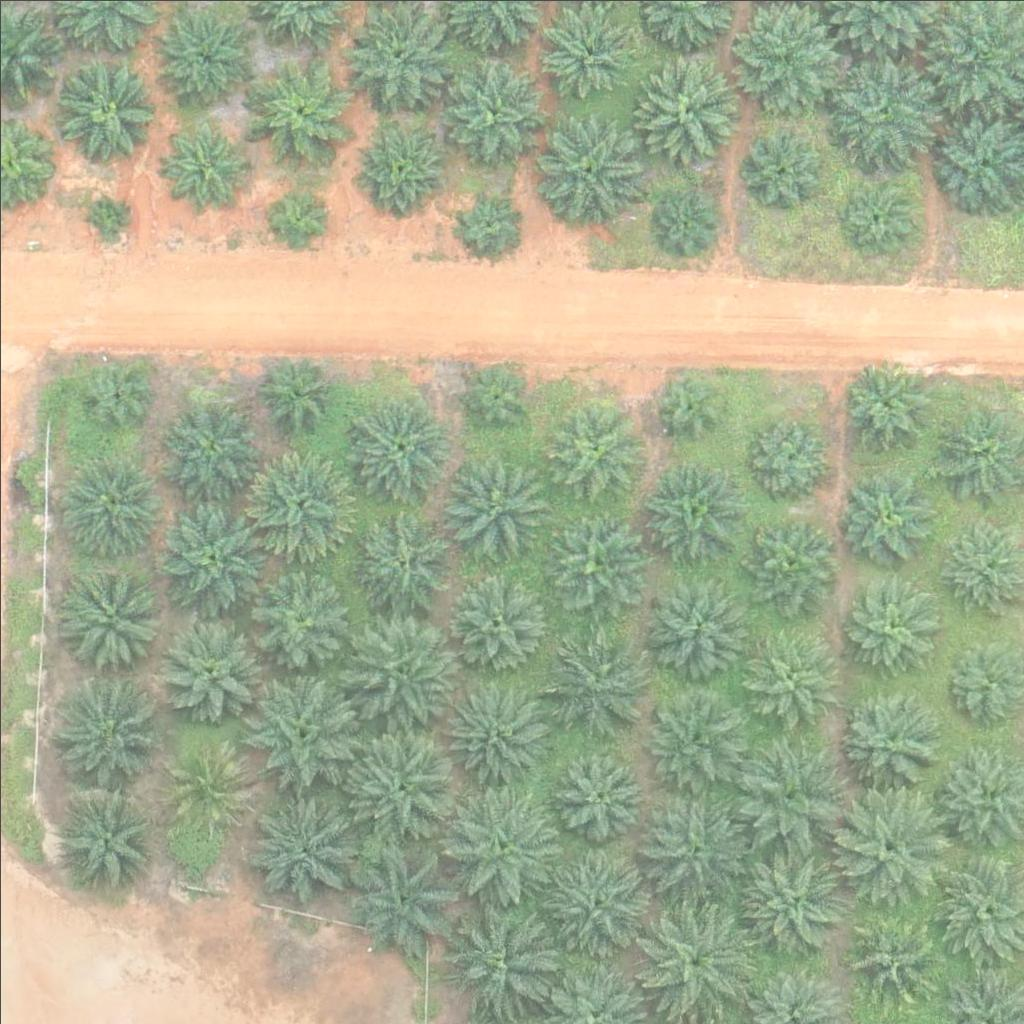Kelapa_Sawit: (241, 790, 354, 904), (243, 674, 356, 788), (343, 839, 456, 953), (154, 502, 267, 615), (638, 901, 751, 1014), (639, 796, 752, 909), (736, 847, 849, 960), (344, 733, 456, 847), (441, 900, 553, 1014), (242, 441, 354, 554), (47, 676, 159, 789), (347, 609, 459, 722), (444, 787, 556, 900), (540, 842, 652, 955), (731, 740, 843, 853), (833, 791, 945, 904), (831, 58, 943, 171), (57, 788, 157, 889), (160, 396, 260, 497), (351, 505, 451, 606), (347, 398, 447, 499), (445, 682, 545, 783), (444, 569, 544, 670), (444, 460, 544, 561), (545, 637, 645, 738), (543, 511, 643, 612), (543, 399, 643, 500), (637, 687, 737, 788), (643, 579, 743, 680), (642, 457, 742, 558), (736, 630, 836, 731), (737, 513, 837, 614), (838, 688, 938, 789), (839, 572, 939, 673), (636, 61, 736, 162), (534, 120, 634, 221), (443, 63, 543, 164), (348, 6, 448, 107), (246, 59, 346, 160), (154, 7, 254, 108), (62, 569, 162, 669), (57, 455, 157, 555), (156, 616, 256, 716), (250, 566, 350, 666), (836, 356, 936, 456), (54, 63, 154, 163), (847, 914, 935, 1003), (163, 738, 251, 826), (743, 412, 831, 500), (161, 120, 249, 208), (556, 748, 643, 836), (839, 472, 926, 560), (350, 123, 437, 211), (839, 174, 914, 250), (76, 357, 151, 433), (650, 365, 725, 441), (742, 131, 817, 206), (258, 352, 333, 427), (454, 358, 529, 433), (653, 189, 716, 252), (454, 191, 516, 254), (268, 190, 330, 253), (86, 195, 123, 233)
